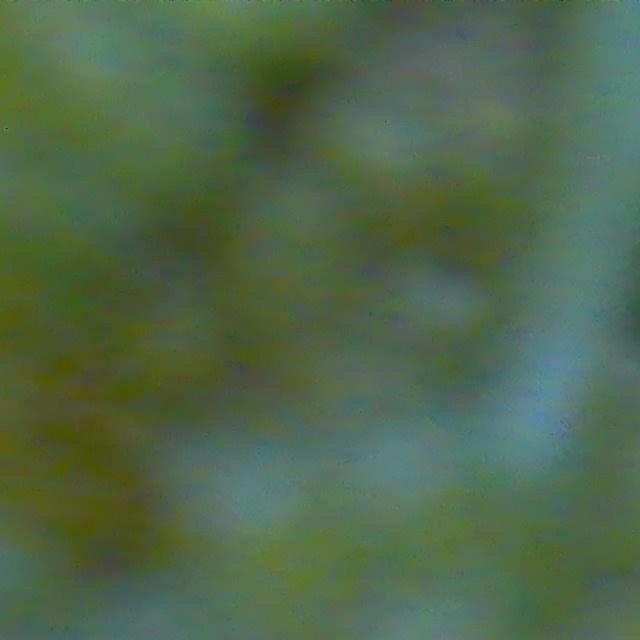SeaGrape: (317, 402, 500, 582)
